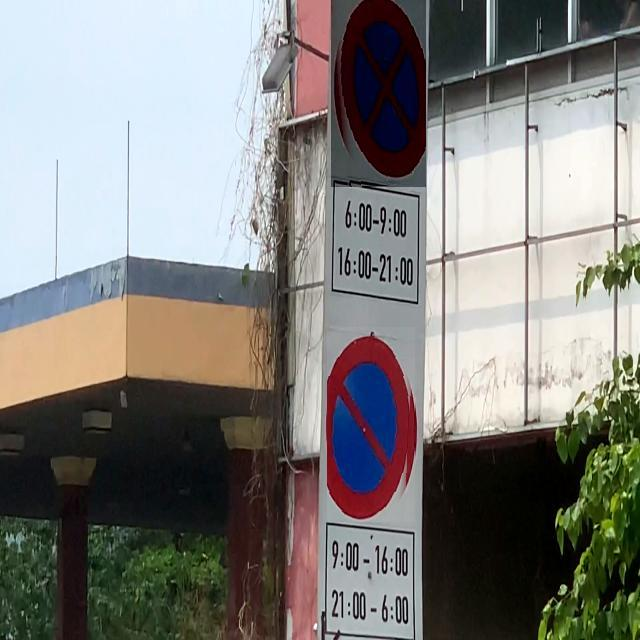P-130: (331, 0, 426, 187)
P-131a: (328, 327, 416, 522)
